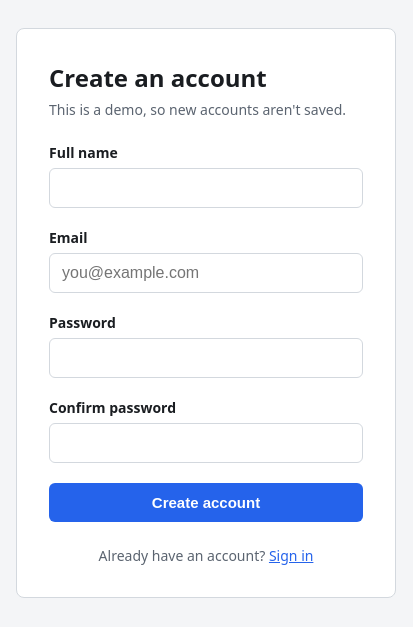
SignUpPage › rejects two passwords that do not match
In the field labelled "Full name": (206, 188) [49,168,363,208], type "Riley Chen"
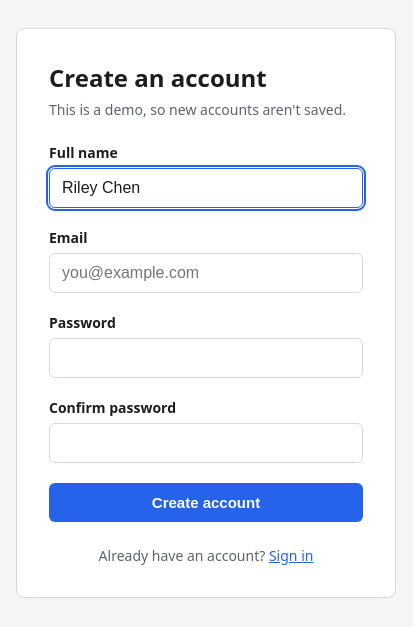
In the field labelled "Email": (206, 273) [49,253,363,293], type "riley@example.com"
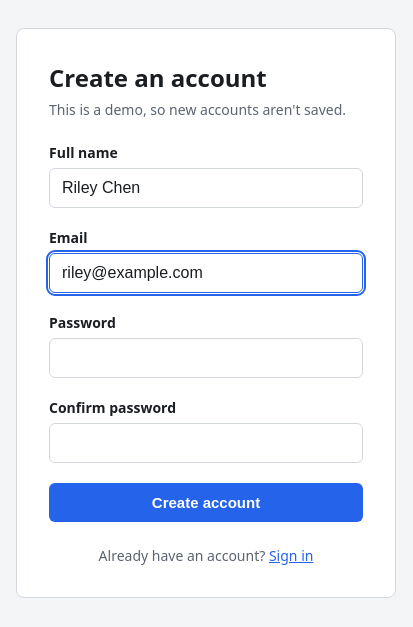
In the password field labelled "Password": (206, 358) [49,338,363,378], type "password1"
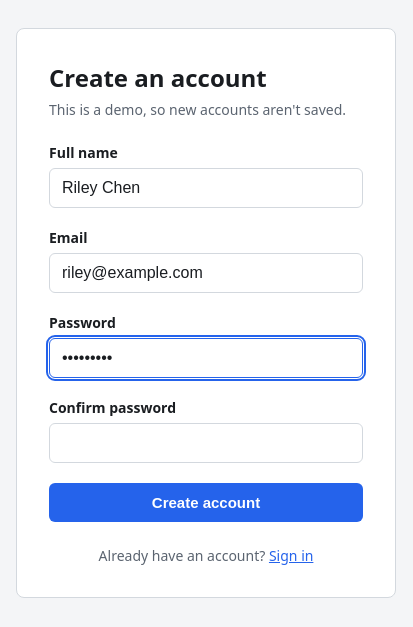
In the password field labelled "Confirm password": (206, 443) [49,423,363,463], type "password2"
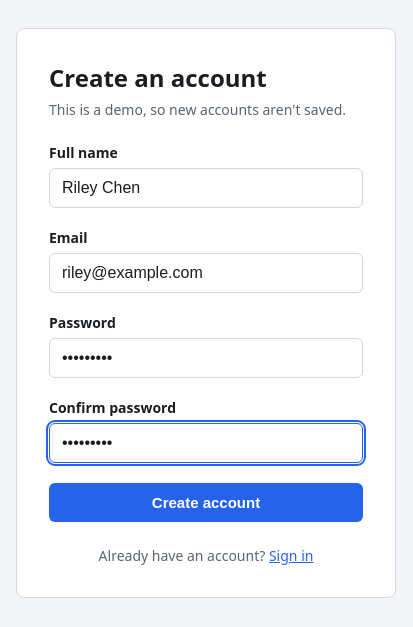
Click the button "Create account": (206, 502) [49,483,363,522]
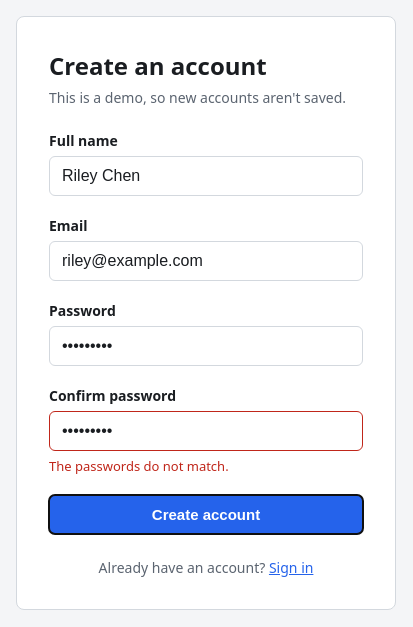
Check: the text "The passwords do not match." is shown, box [49,457,229,475]
